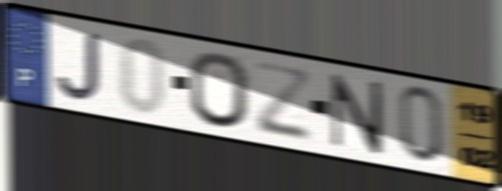0: (115, 36, 169, 119), (396, 83, 446, 167)
J: (54, 29, 104, 104)
N: (328, 71, 386, 157)
O: (186, 50, 251, 131)
Z: (252, 57, 313, 145)
